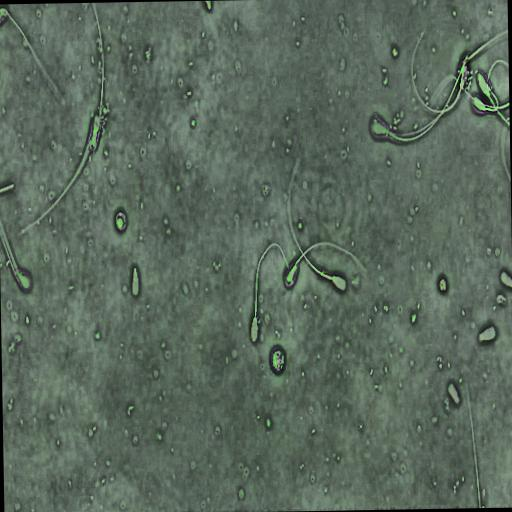dirt-particles: (268, 341, 288, 377), (113, 208, 128, 233), (437, 275, 448, 294), (391, 45, 398, 58)
folded-tail: (485, 60, 508, 111)
loose-head: (477, 323, 497, 344), (446, 380, 460, 407), (130, 264, 140, 299)
loose-tail: (464, 378, 482, 508)
normal: (373, 31, 508, 141), (286, 157, 350, 296), (246, 238, 295, 349), (410, 29, 470, 115), (282, 240, 375, 291), (473, 59, 508, 111)
